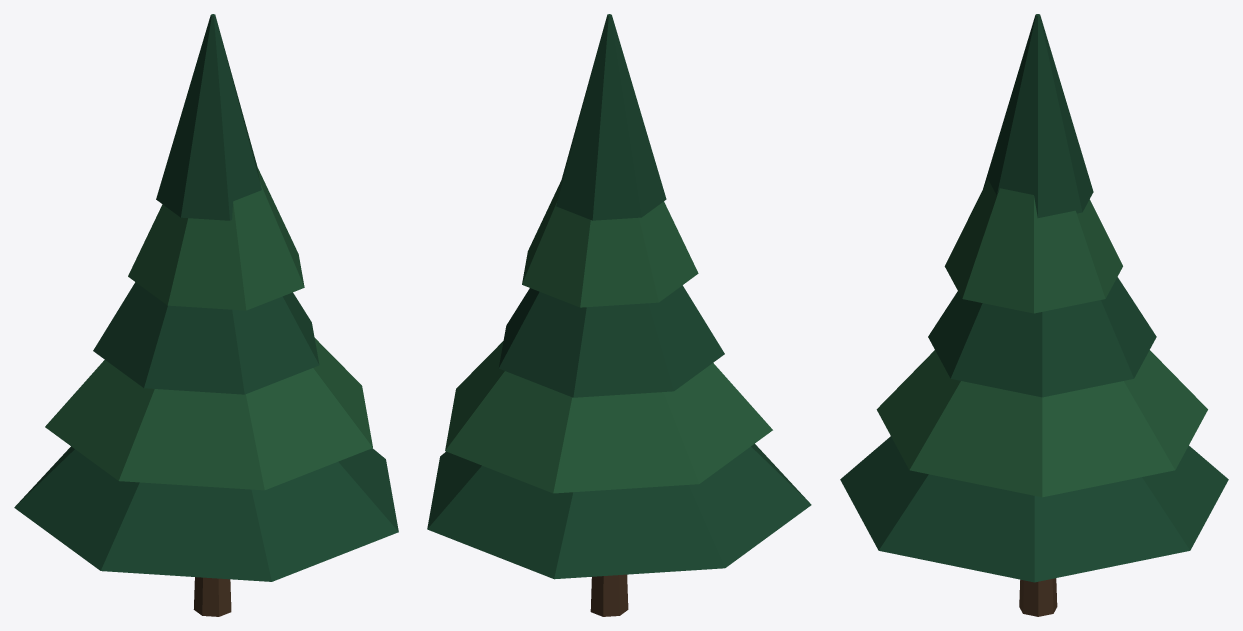
File: pine-low-poly-b.glb
The picture shows the model from 3 angles, left to right: view 1: azimuth 30°, elevation 25°; view 2: azimuth 150°, elevation 25°; view 3: azimuth 270°, elevation 25°; orthographic projection.
Visible parts, largest first — view 1: pine-b; view 2: pine-b; view 3: pine-b.
Boxes of the visible parts, bbox=[...] form: pine-b: bbox=[14, 14, 398, 616]; pine-b: bbox=[427, 14, 811, 616]; pine-b: bbox=[840, 14, 1228, 616].
Size of the model in its own units: 6.21 by 10.74 by 6.37.
